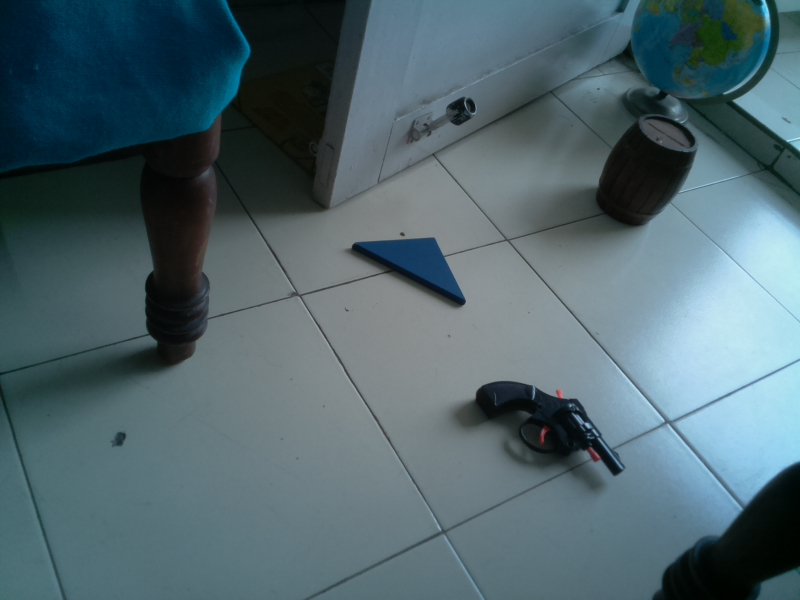Gun: (470, 376, 628, 481)
Triangle: (351, 232, 470, 310)
